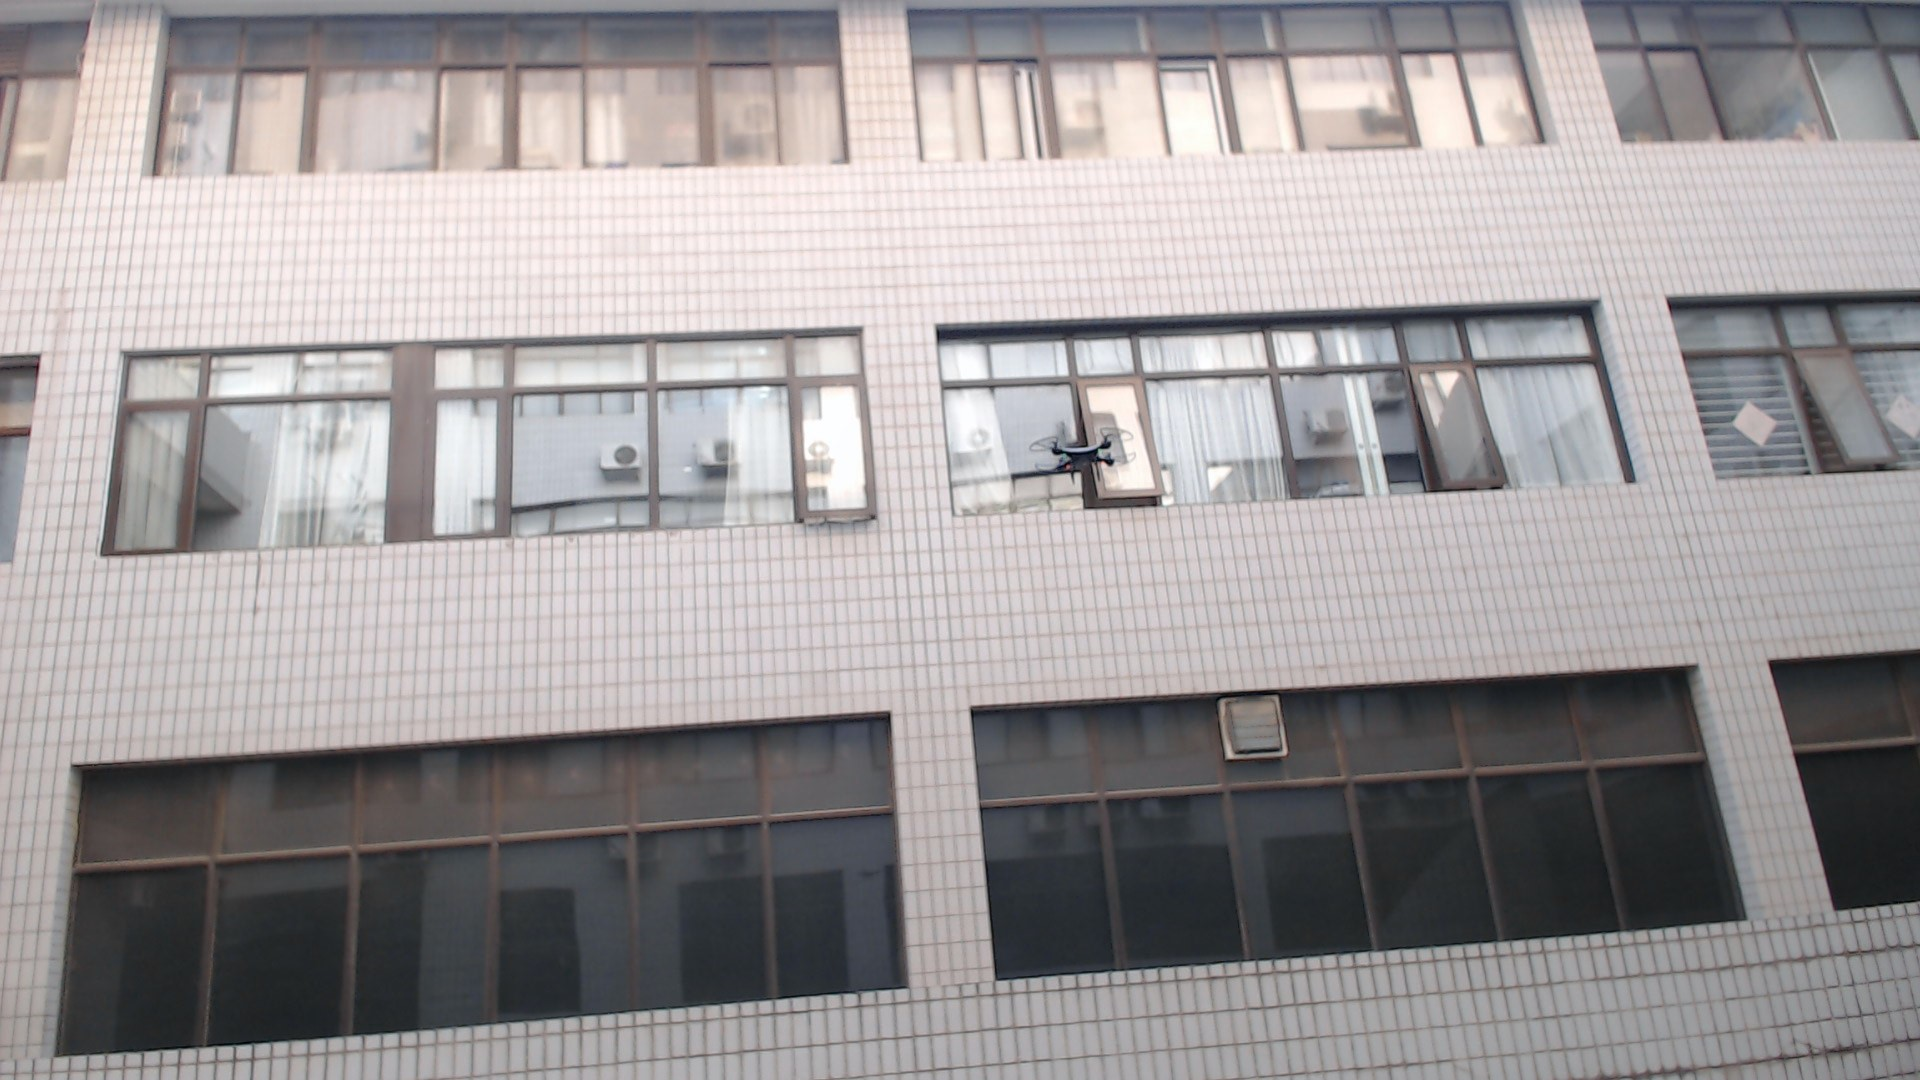drone: (1013, 413, 1150, 487)
